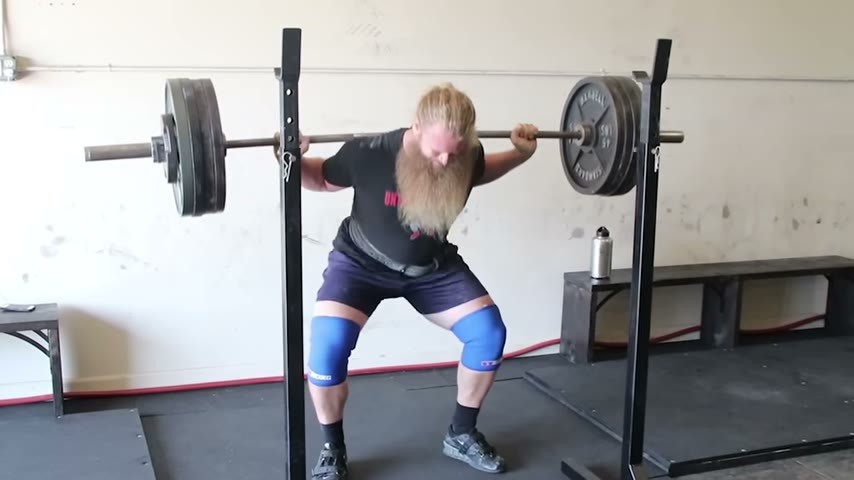barbell_plate_side: (572, 34, 690, 210)
